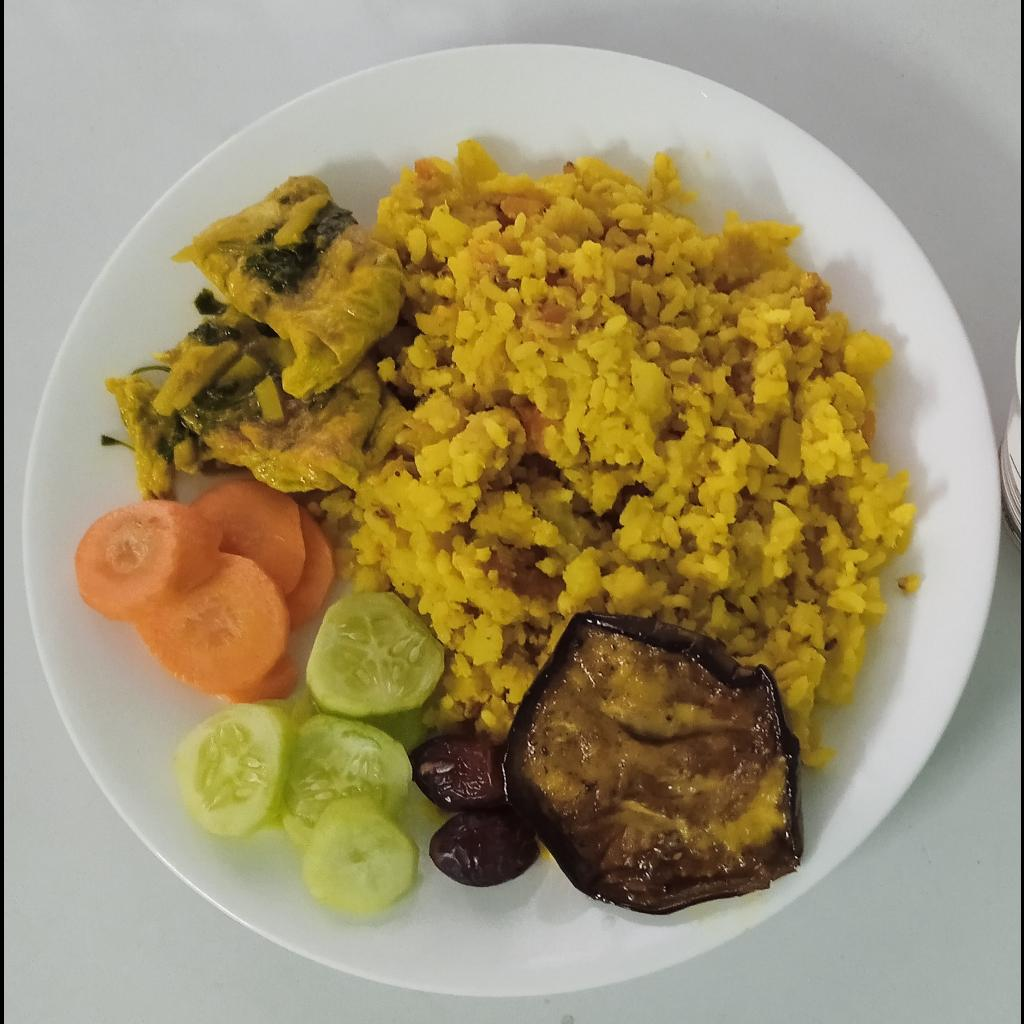begun-vaji: (504, 614, 803, 919)
carrot: (73, 479, 336, 702)
cucumber: (171, 592, 446, 917)
dates: (411, 738, 541, 888)
egg-poached: (104, 176, 410, 504)
khichuri: (299, 135, 915, 770)
